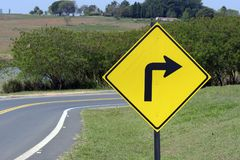right: (101, 21, 212, 132)
